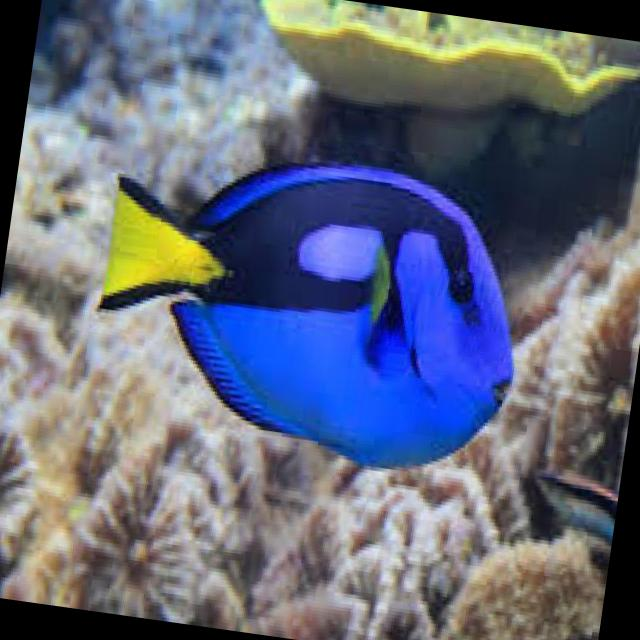TangFish: (80, 126, 539, 488)
